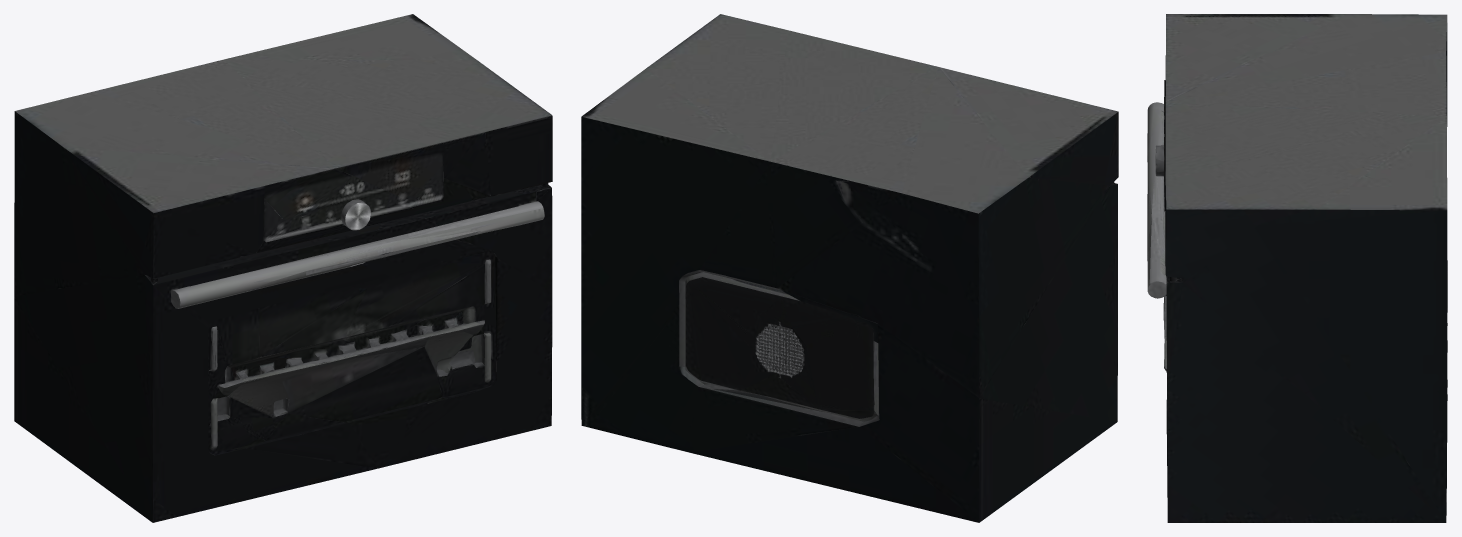
Rendered from gorenje-built-in-oven-bcm4547a10bg.glb.
3 renders of one model, left to right at view 1: azimuth 30°, elevation 25°; view 2: azimuth 150°, elevation 25°; view 3: azimuth 270°, elevation 25°, orthographic.
Bounding box in the file's own units: 1.9 × 1.42 × 1.23.
Materials: 1 (1 with a texture image).
